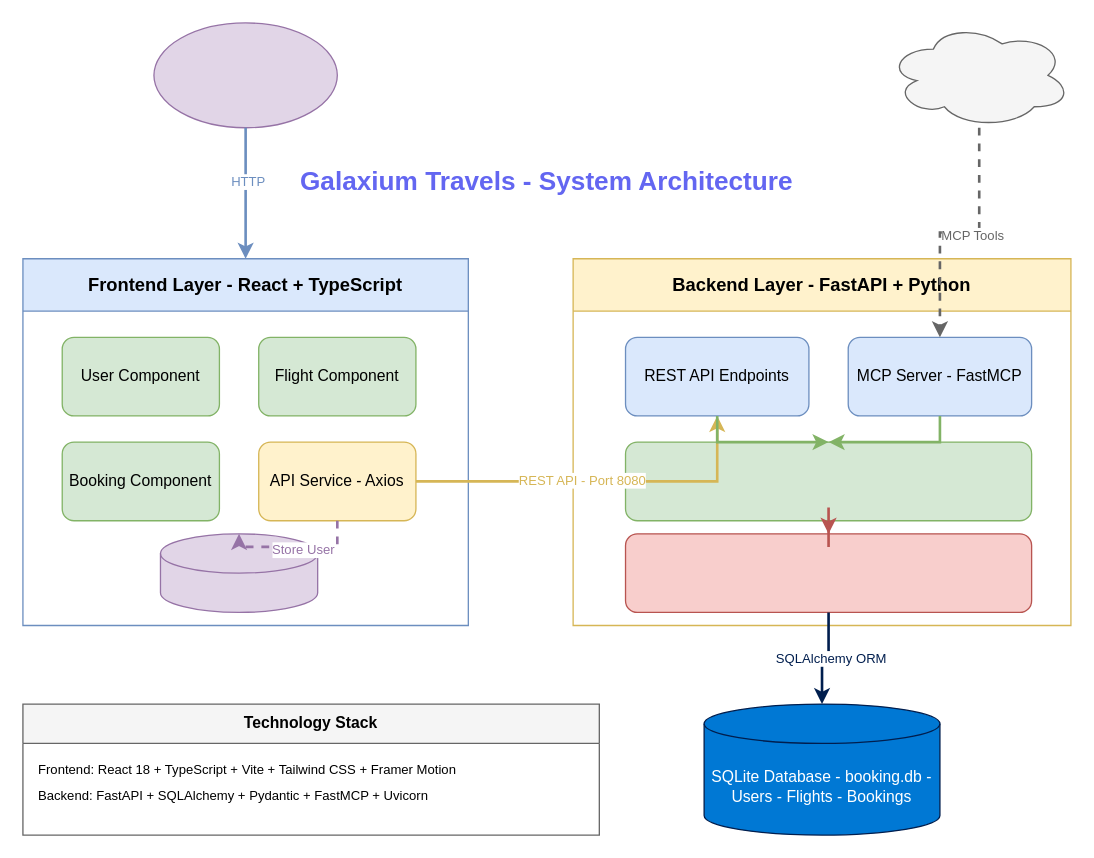
This 1094x858 diagram has some shape labels left out. The shapes that lost their labels are listed below. From the top down, each one's centre as x and y in pixels, then its label:
At pixel 245 75: "Browser - Port 5173".
At pixel 978 75: "AI Agents - MCP Protocol".
At pixel 828 481: "Services Layer - user - flight - booking".
At pixel 238 572: "LocalStorage - User Data".
At pixel 828 572: "Models Layer - SQLAlchemy ORM".
